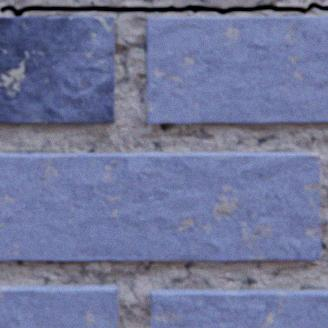brick: (0, 151, 320, 260), (146, 16, 327, 123), (0, 16, 114, 123), (150, 288, 327, 327), (0, 283, 118, 327)
crack: (0, 1, 327, 16)
